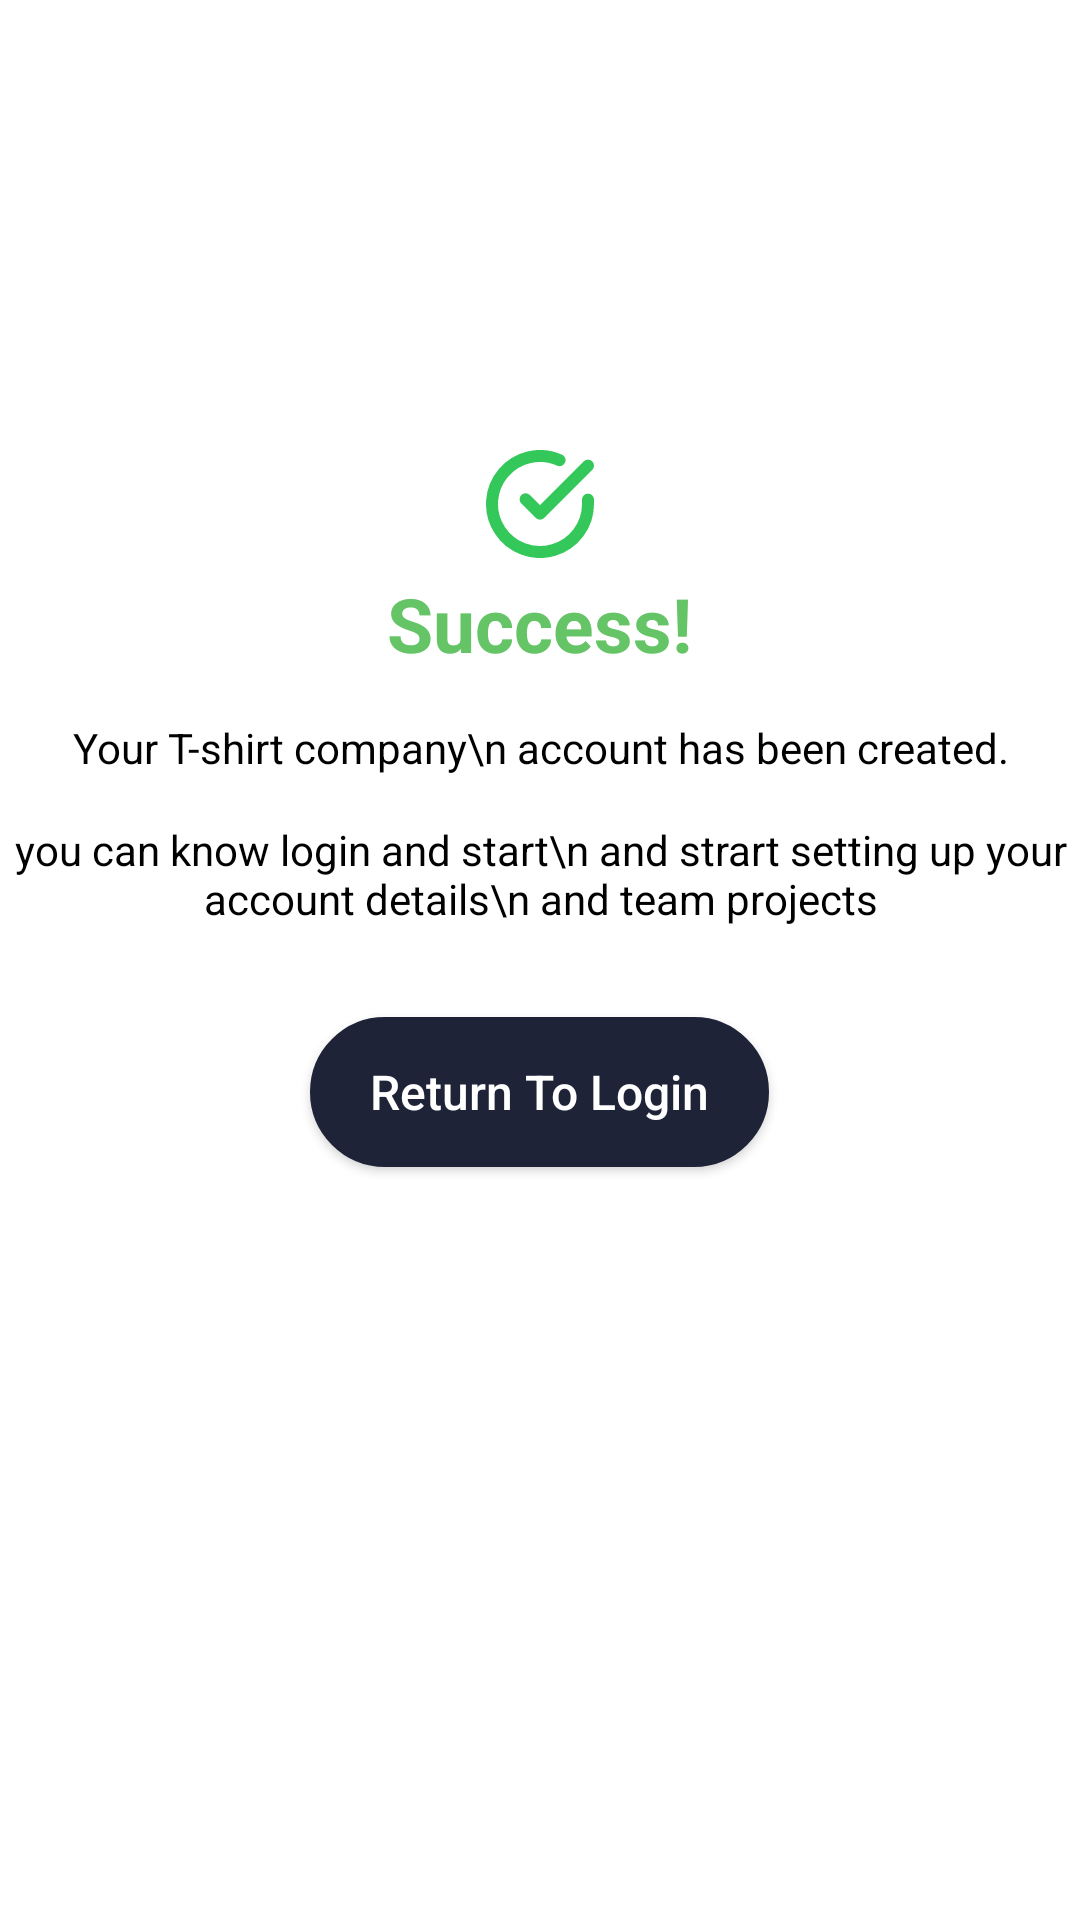

Where icons sit on this 1080w x 1920h app screen, as (x1, y1, x2, y2):
sucess: (486, 450, 594, 558)
